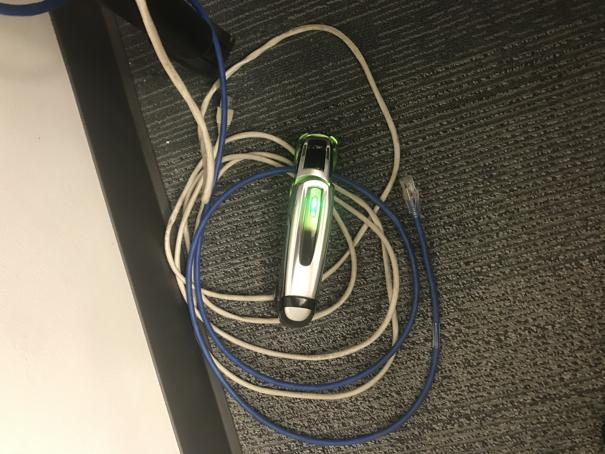Freewheel: (273, 133, 340, 327)
